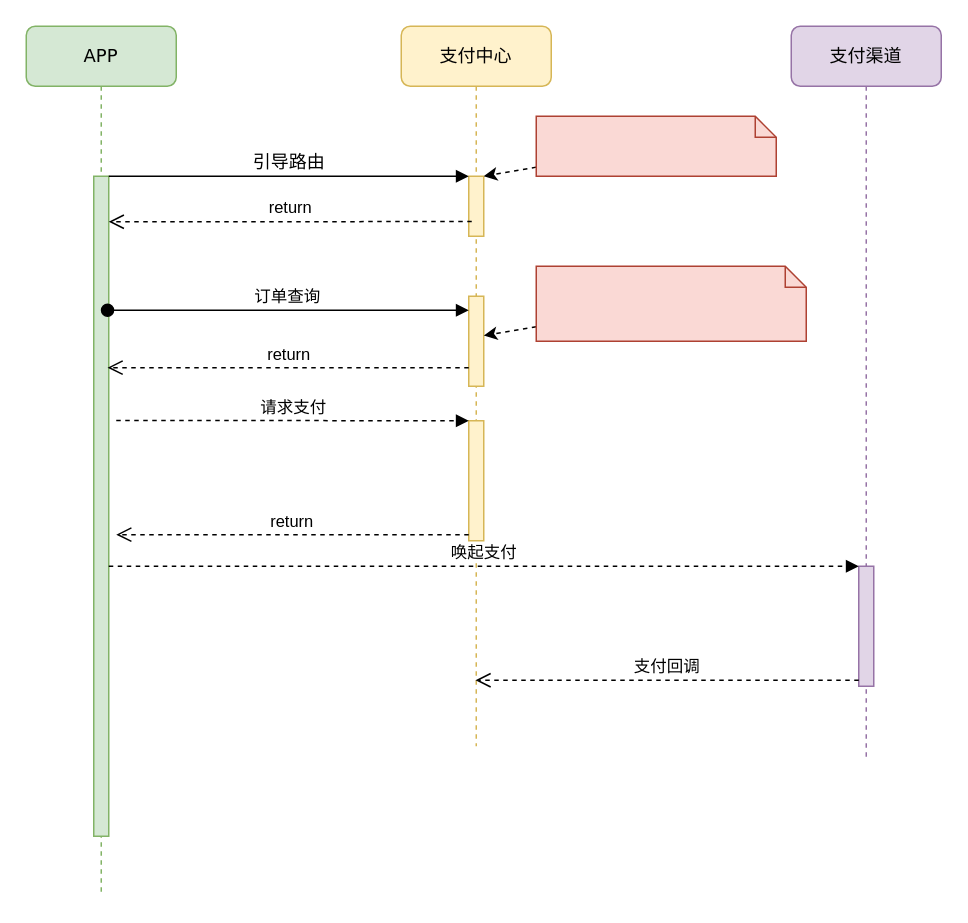
The diagram is 968 pixels wide and 923 high, and some of its shapes have lost their labels. Each missing label, with the centre of its shape:
"决定使用那些支付渠道" goes at point (655, 145).
"支付金额，商品名称，等信息" goes at point (670, 303).
